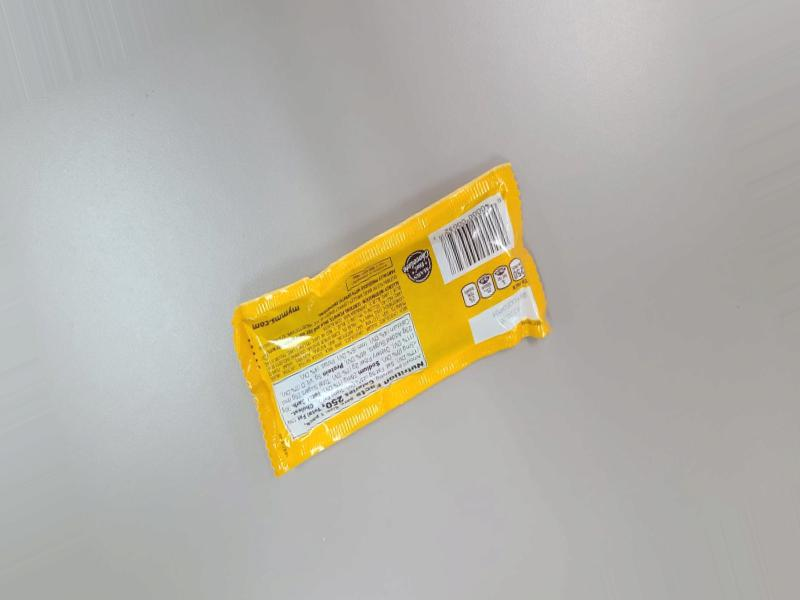m&m: (217, 167, 577, 466)
